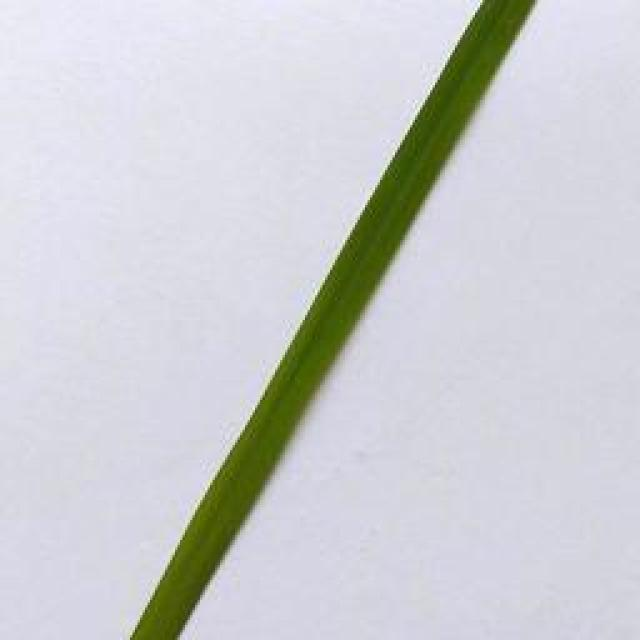Healthy: (133, 0, 538, 640)
